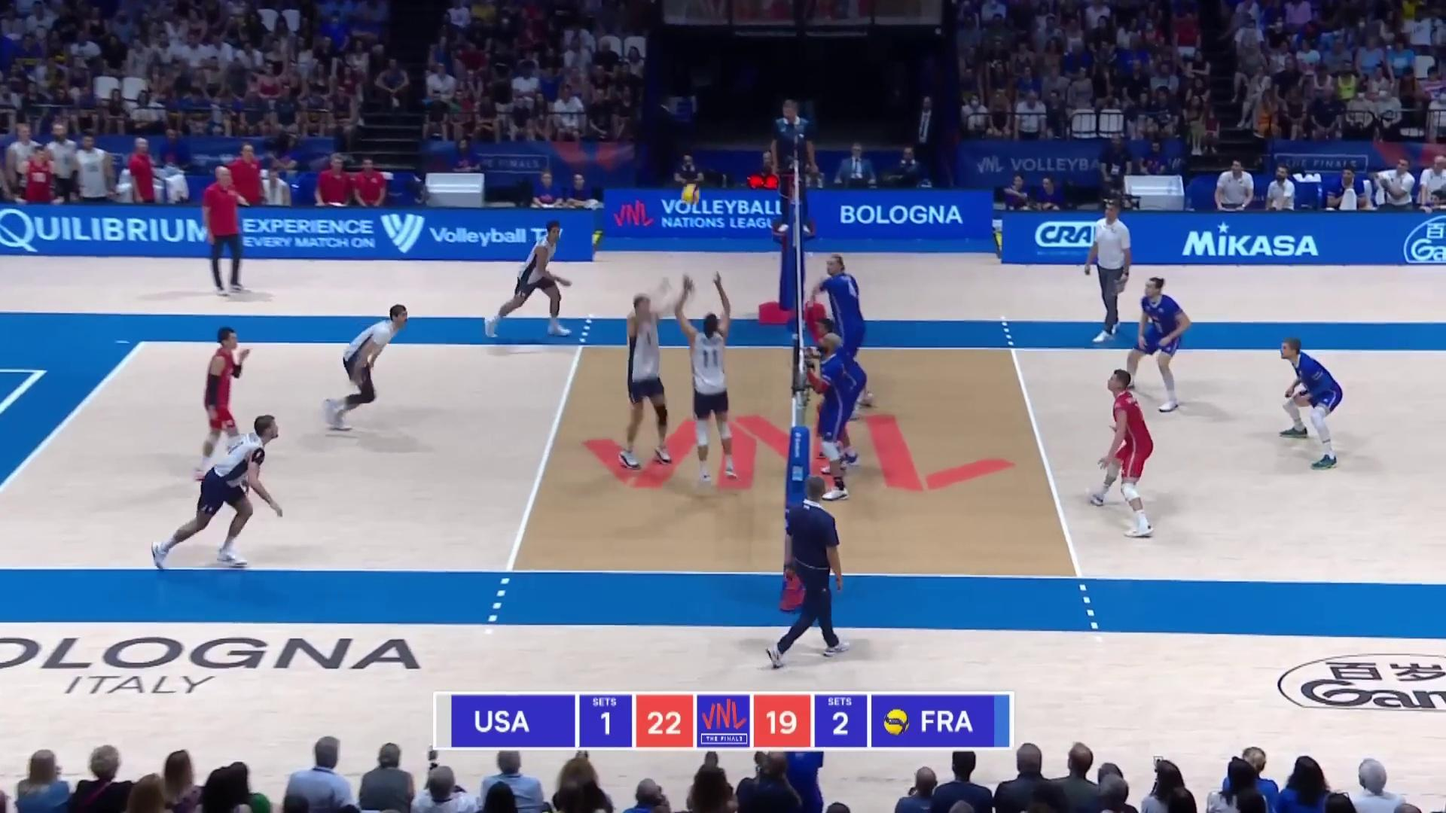player: (155, 413, 289, 563), (675, 270, 734, 482), (619, 281, 683, 465), (1088, 371, 1158, 538), (801, 254, 878, 402), (325, 308, 407, 432), (481, 224, 567, 339), (811, 315, 867, 471), (811, 335, 864, 499), (1125, 277, 1187, 411), (1279, 341, 1341, 471), (197, 326, 245, 468)
refree: (773, 486, 849, 666), (774, 104, 816, 241)
